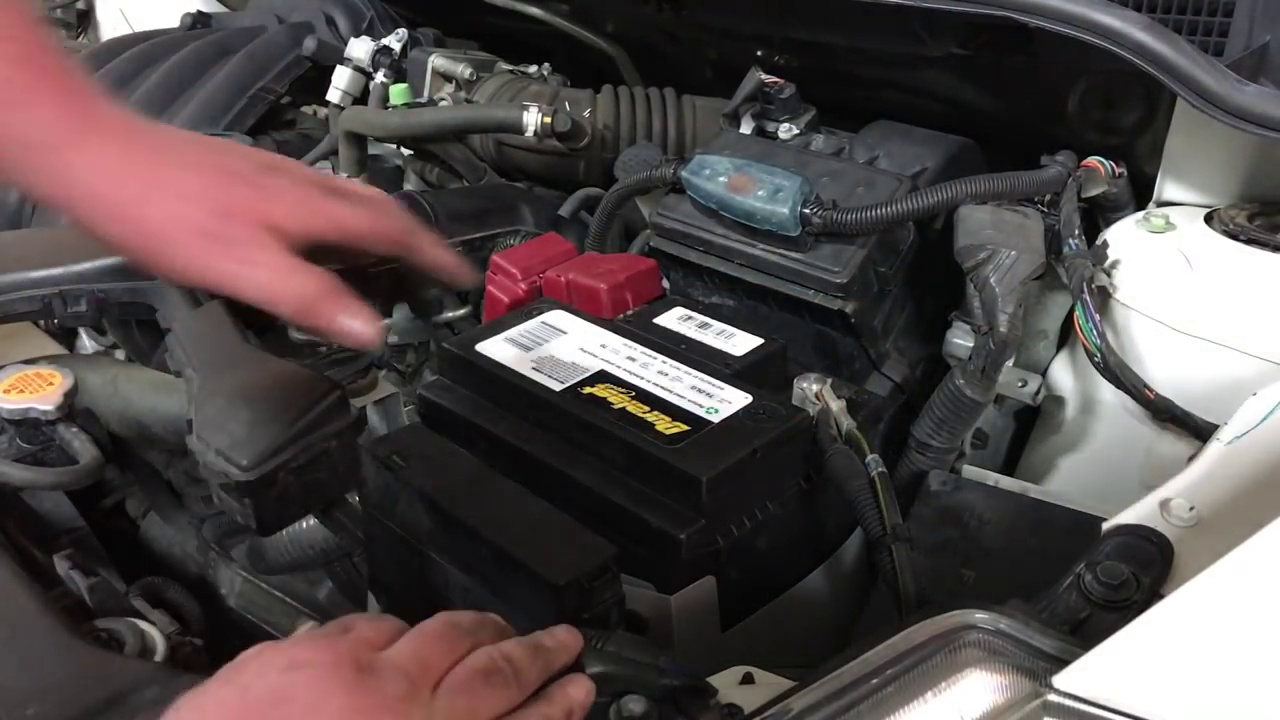battery: (437, 249, 858, 496)
neg_connected: (763, 342, 886, 485)
pos_connected: (484, 234, 676, 323)
